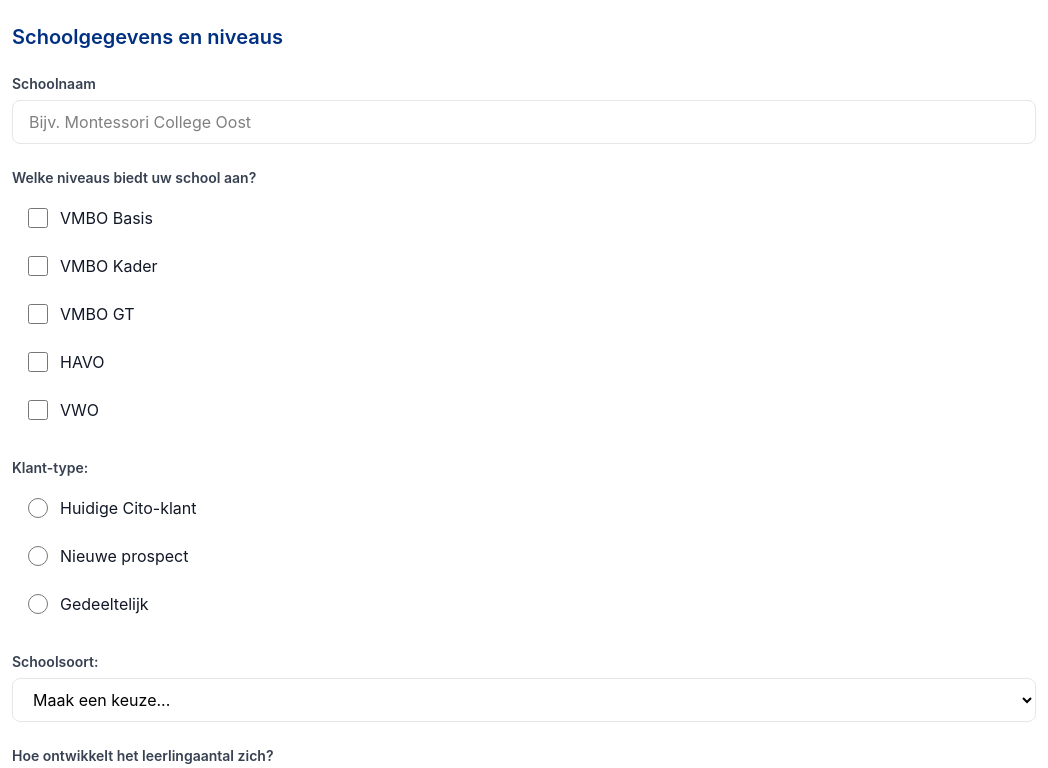
Scenario: WizardStep1 - R4 schoolType + customSchoolType › shows customSchoolType input only when schoolType=overig
Expected: the field labelled "Naam van het schooltype" is not shown
// Pick a regular option — still hidden
Select "Regulier" in the dropdown labelled "Schoolsoort:": [524, 700] box 12,678 -> 1036,722
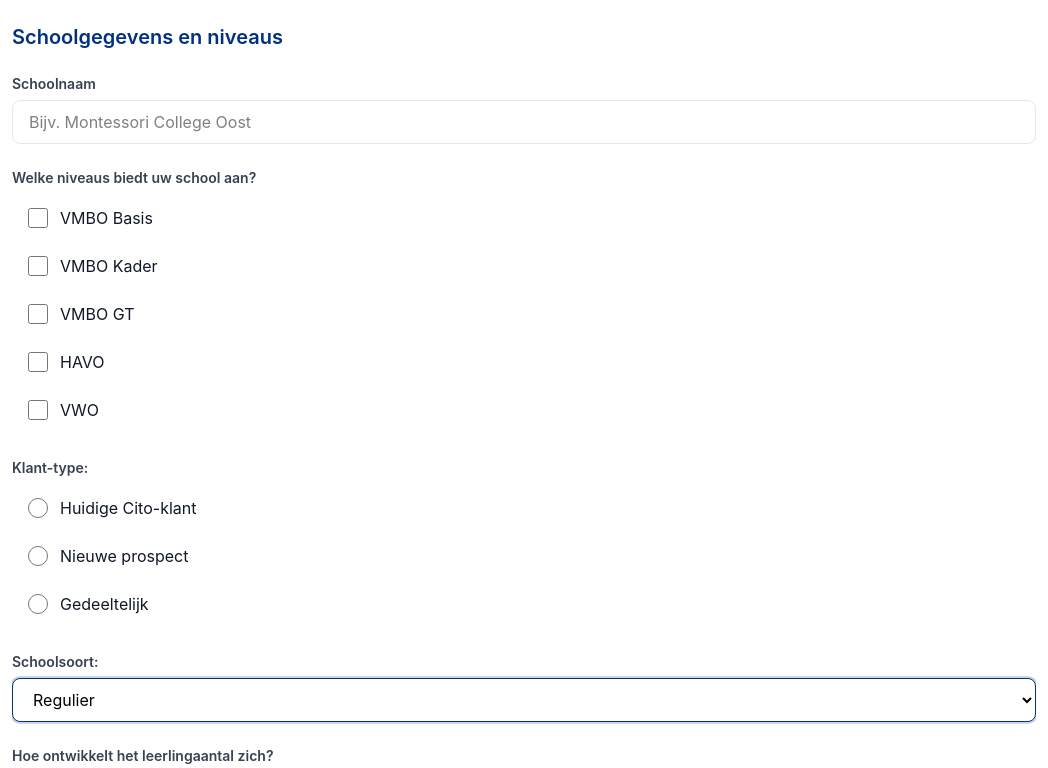
Expected: the field labelled "Naam van het schooltype" is not shown
// Pick 'overig' — now visible
Select "Anders, namelijk:" in the dropdown labelled "Schoolsoort:": [524, 700] box 12,678 -> 1036,722
(page scrolled)
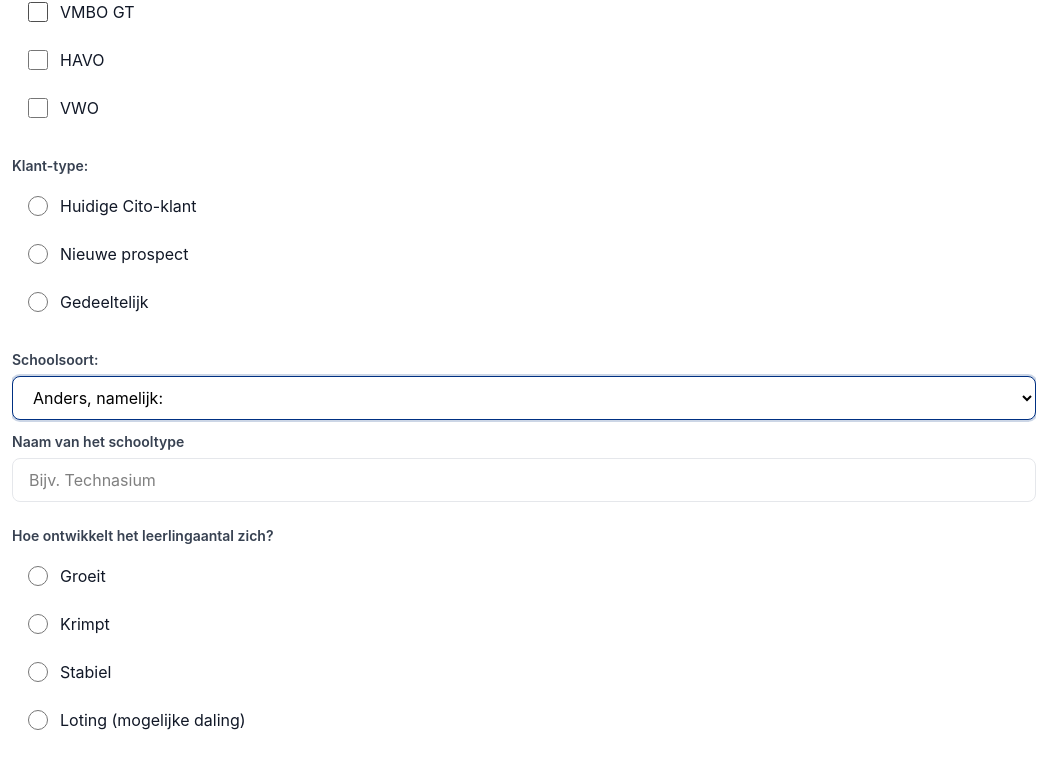
Expected: the field labelled "Naam van het schooltype" is shown, 12,458 -> 1036,502
